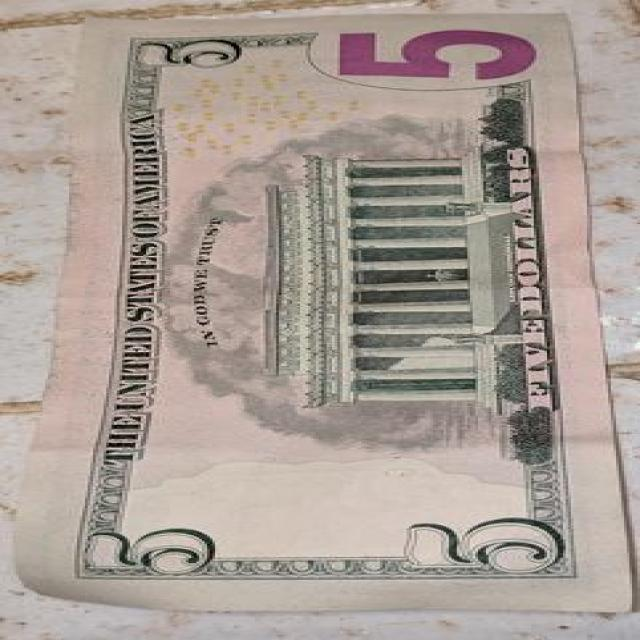5-Back: (5, 10, 635, 612)
